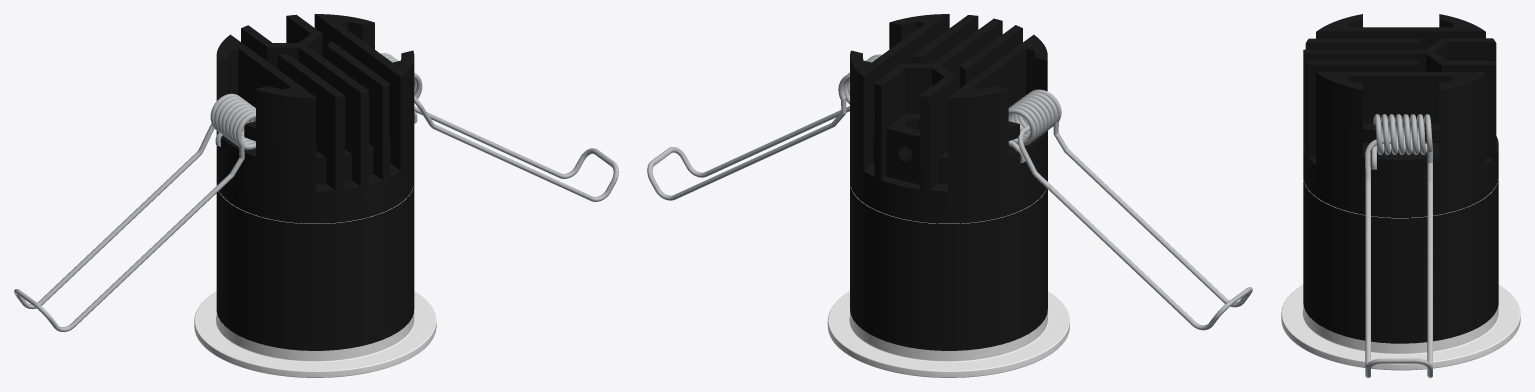
Rendered from CrossEmbutido.glb.
3 views of the same model, side by side, from view 1: azimuth 30°, elevation 25°; view 2: azimuth 150°, elevation 25°; view 3: azimuth 270°, elevation 25° (orthographic).
Parts seen in each view (by area): view 1: 3DGeom-1, 3DGeom-3, 3DGeom-5, 3DGeom-10, 3DGeom-9; view 2: 3DGeom-1, 3DGeom-3, 3DGeom-5, 3DGeom-10, 3DGeom-9; view 3: 3DGeom-1, 3DGeom-3, 3DGeom-5, 3DGeom-9.
Boxes of the visible parts, x1,y1,x2,y2 form: 3DGeom-1: (216,14,414,223); 3DGeom-3: (216,184,414,350); 3DGeom-5: (194,291,436,377); 3DGeom-10: (14,93,255,331); 3DGeom-9: (380,53,618,201); 3DGeom-1: (850,14,1047,223); 3DGeom-3: (850,184,1047,350); 3DGeom-5: (827,291,1069,377); 3DGeom-10: (1008,89,1252,330); 3DGeom-9: (647,54,881,200); 3DGeom-1: (1303,14,1498,217); 3DGeom-3: (1303,179,1498,343); 3DGeom-5: (1281,285,1520,370); 3DGeom-9: (1365,114,1432,377).
Size of the model in its own units: 0.139 by 0.0621 by 0.0502.
Materials: 3 (1 with a texture image).
